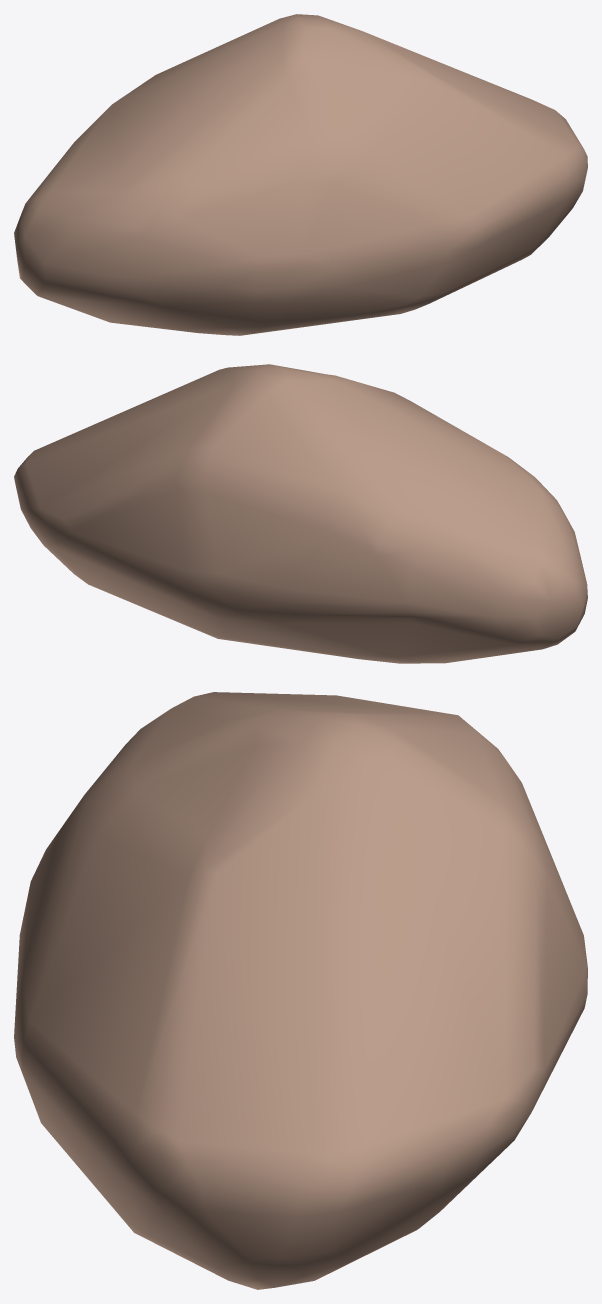
Rendered from Rock_03_Wedge_LOD0.fbx.
3 views of the same model, one above another, from view 1: azimuth 30°, elevation 25°; view 2: azimuth 150°, elevation 25°; view 3: azimuth 270°, elevation 25° (orthographic). The views are drawn at different scales.
Visible parts, largest first — view 1: Rock_03_Wedge_LOD1_Mesh; view 2: Rock_03_Wedge_LOD1_Mesh; view 3: Rock_03_Wedge_LOD1_Mesh.
Part boxes in pixels (x1,y1,x2,y2): Rock_03_Wedge_LOD1_Mesh: (14, 14, 587, 335); Rock_03_Wedge_LOD1_Mesh: (14, 364, 587, 663); Rock_03_Wedge_LOD1_Mesh: (14, 692, 587, 1289).
Size of the model in its own units: 0.9737 by 0.4016 by 0.5353.
